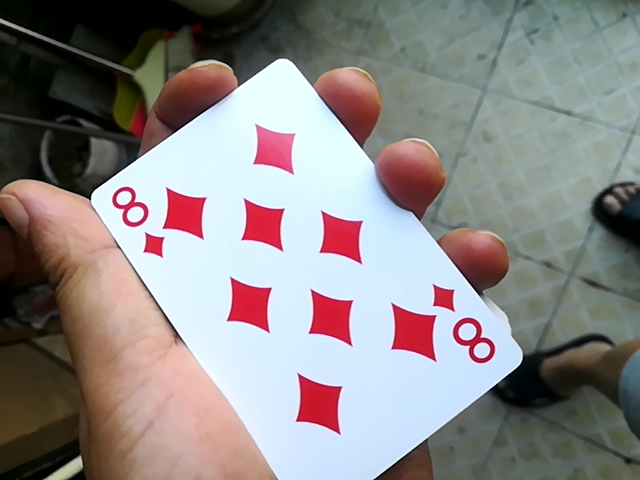fk 8: (80, 58, 509, 479)
